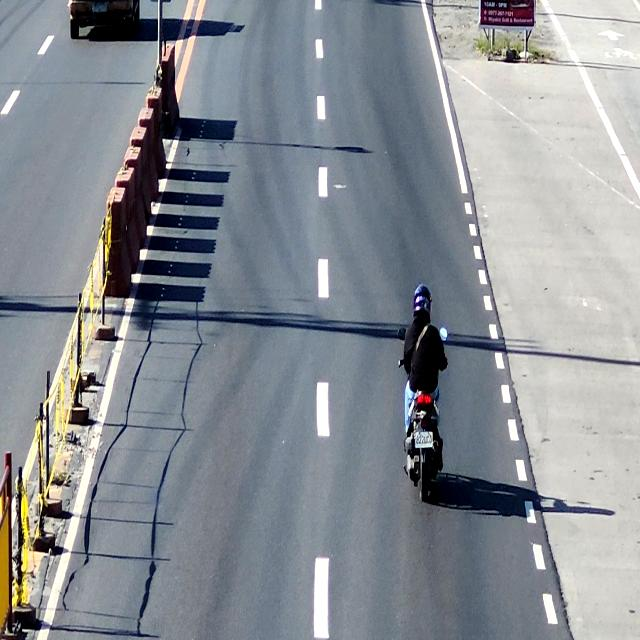License-Plate: (411, 429, 436, 452)
Motorcycle: (392, 285, 458, 510)
